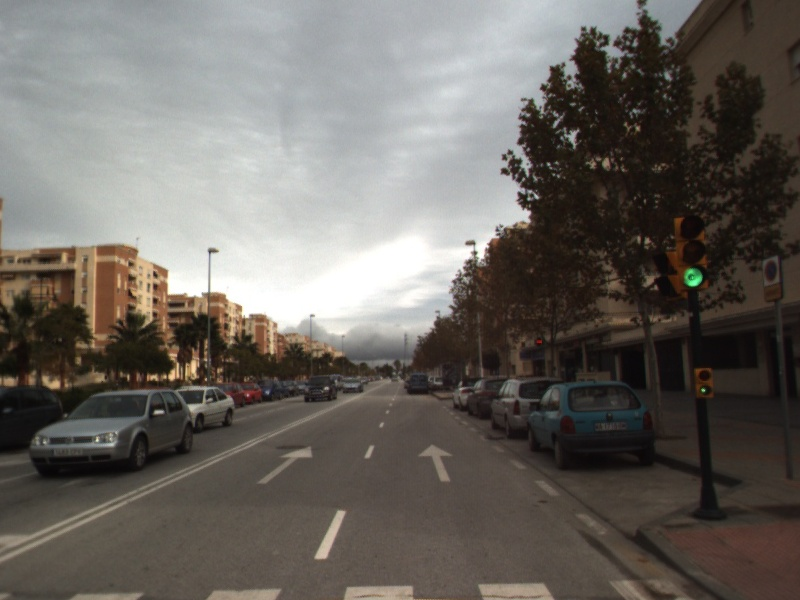STRAIGHT: (254, 444, 315, 486), (416, 442, 455, 484)
